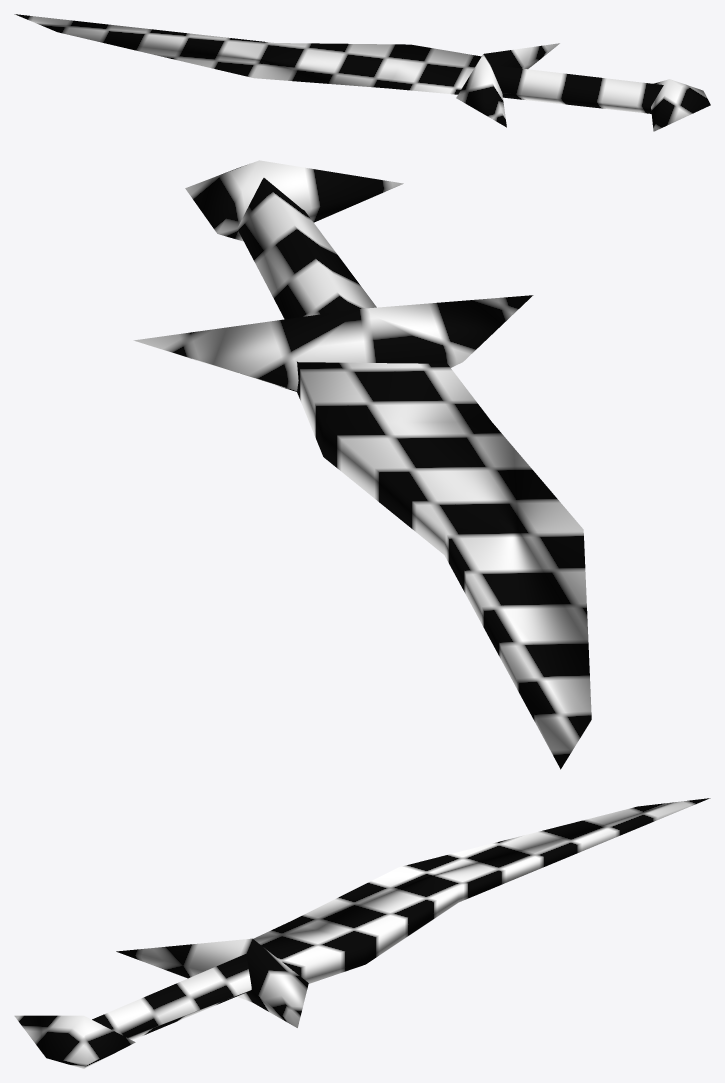
File: initwedg4.dae
3 renders of one model, top to bottom at view 1: azimuth 30°, elevation 25°; view 2: azimuth 150°, elevation 25°; view 3: azimuth 270°, elevation 25°, orthographic. The views are drawn at different scales.
Parts seen in each view (by area): view 1: weapon; view 2: weapon; view 3: weapon.
Boxes of the visible parts, x1,y1,x2,y2 form: weapon: (14, 14, 710, 131); weapon: (133, 160, 591, 769); weapon: (14, 798, 710, 1068).
Size of the model in its own units: 1.7 by 1.88 by 0.1906.
Materials: 1 (1 with a texture image).
